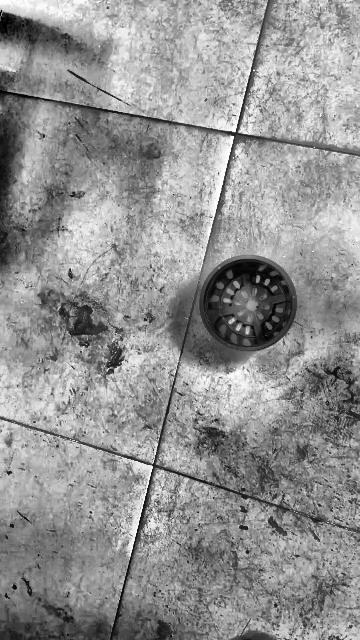pot: (199, 256, 297, 350)
